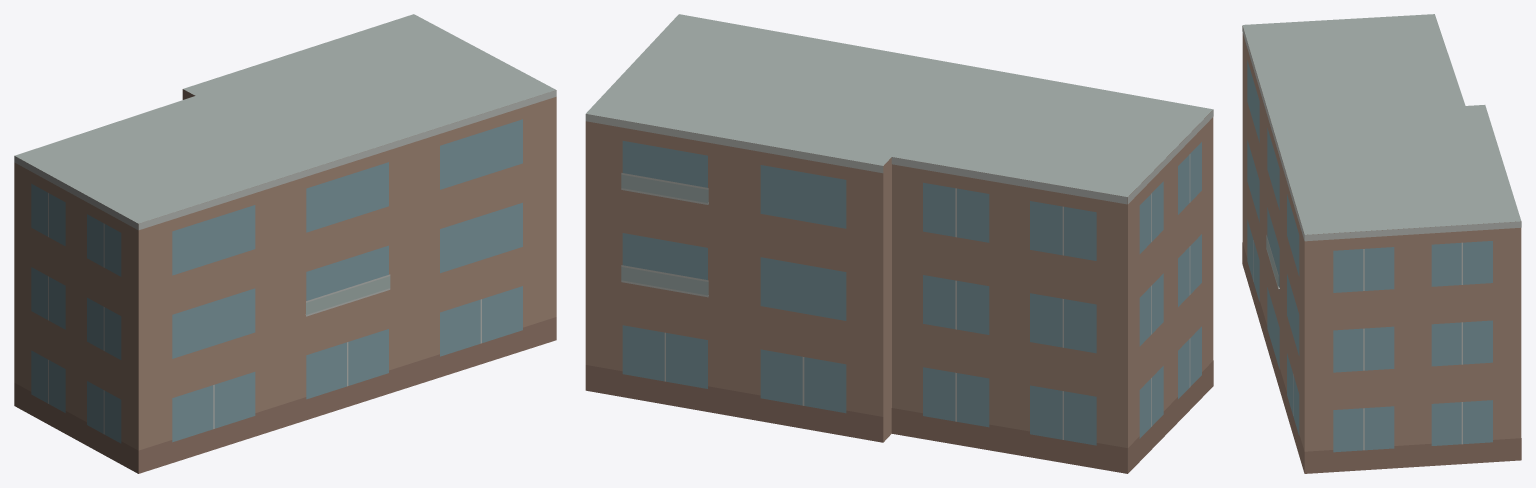
File: survey-upis-32479663.glb
The picture shows the model from 3 angles, left to right: view 1: azimuth 30°, elevation 25°; view 2: azimuth 150°, elevation 25°; view 3: azimuth 270°, elevation 25°; orthographic projection. The views are drawn at different scales.
Parts seen in each view (by area): view 1: survey-upis-32479663.tmp; view 2: survey-upis-32479663.tmp; view 3: survey-upis-32479663.tmp.
Part boxes in pixels (left/top/right/bottom): survey-upis-32479663.tmp: left=14, top=14, right=556, bottom=473; survey-upis-32479663.tmp: left=585, top=14, right=1213, bottom=473; survey-upis-32479663.tmp: left=1242, top=14, right=1521, bottom=473.
Bounding box in the file's own units: 18.15 × 9.15 × 9.69.
